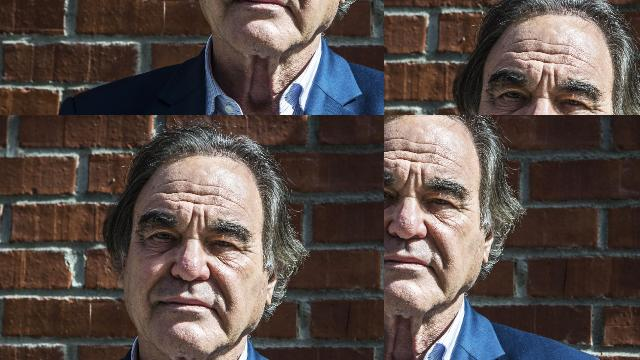crows_feet: (458, 198, 472, 220), (26, 198, 36, 208), (91, 199, 102, 207)
forehead: (418, 142, 458, 170), (384, 139, 411, 164), (40, 162, 88, 174)
frown_line: (402, 170, 424, 187)
gummy_smile: (424, 224, 444, 254), (73, 215, 85, 231), (40, 215, 52, 229)
sad_smile: (432, 262, 442, 284)
